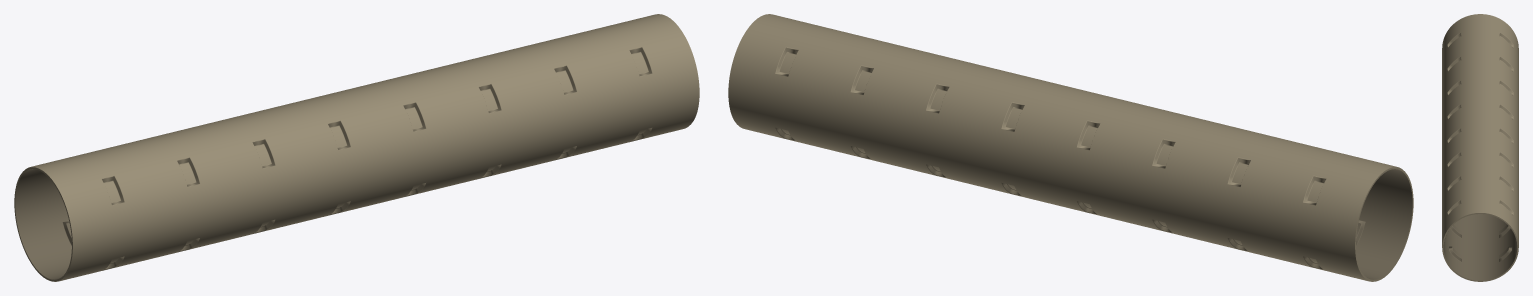
File: joint.glb
3 renders of one model, left to right at view 1: azimuth 30°, elevation 25°; view 2: azimuth 150°, elevation 25°; view 3: azimuth 270°, elevation 25°, orthographic. The views are drawn at different scales.
Parts seen in each view (by area): view 1: 接头管_930mm×5700mm_32个凹槽; view 2: 接头管_930mm×5700mm_32个凹槽; view 3: 接头管_930mm×5700mm_32个凹槽.
Boxes of the visible parts, <box> form: 接头管_930mm×5700mm_32个凹槽: <box>14,14,699,281</box>; 接头管_930mm×5700mm_32个凹槽: <box>728,14,1413,281</box>; 接头管_930mm×5700mm_32个凹槽: <box>1442,14,1518,281</box>.
Bounding box in the file's own units: 5.7 × 0.93 × 0.93.
